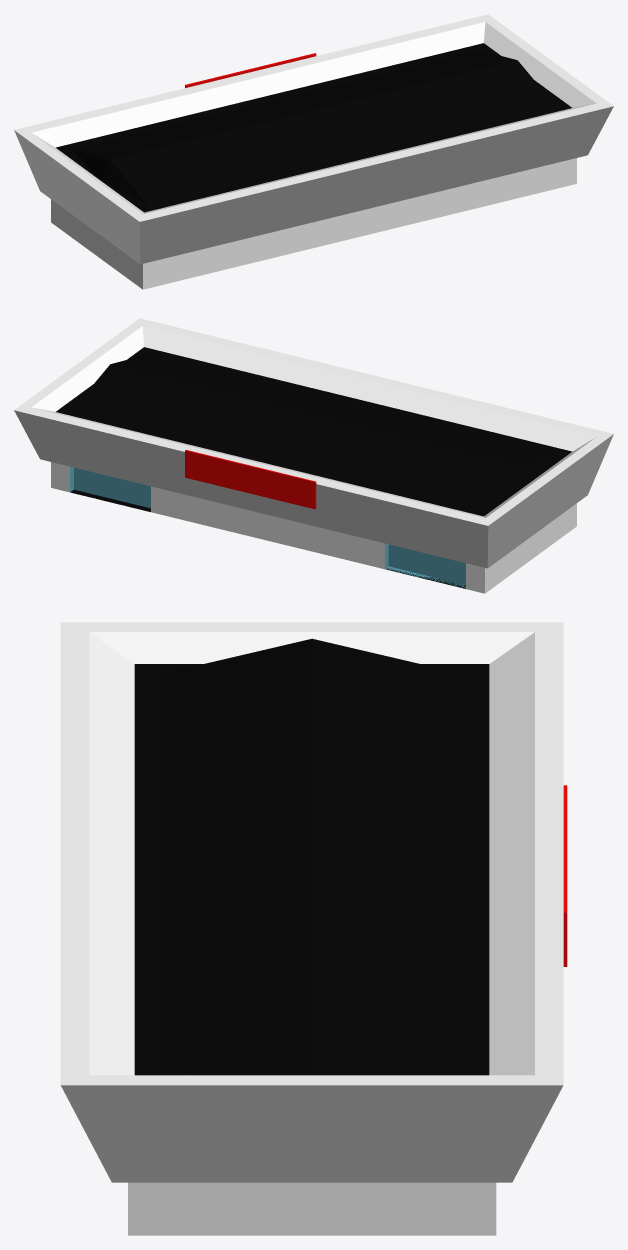
The model's file is market.fbx.
3 renders of one model, top to bottom at view 1: azimuth 30°, elevation 25°; view 2: azimuth 150°, elevation 25°; view 3: azimuth 270°, elevation 25°, orthographic. The views are drawn at different scales.
Visible parts, largest first — view 1: market; view 2: market; view 3: market.
Part boxes in pixels (x1,y1,x2,y2): market: (14, 14, 613, 289); market: (14, 318, 613, 593); market: (60, 622, 567, 1235).
Bounding box in the file's own units: 3376 × 634 × 1562.
